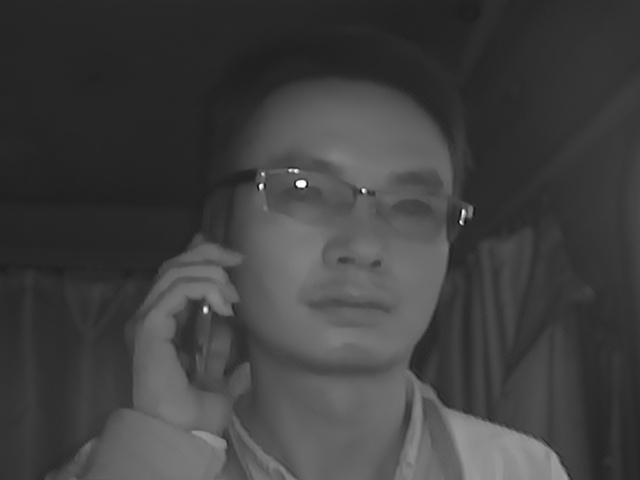hand: (115, 241, 247, 429)
